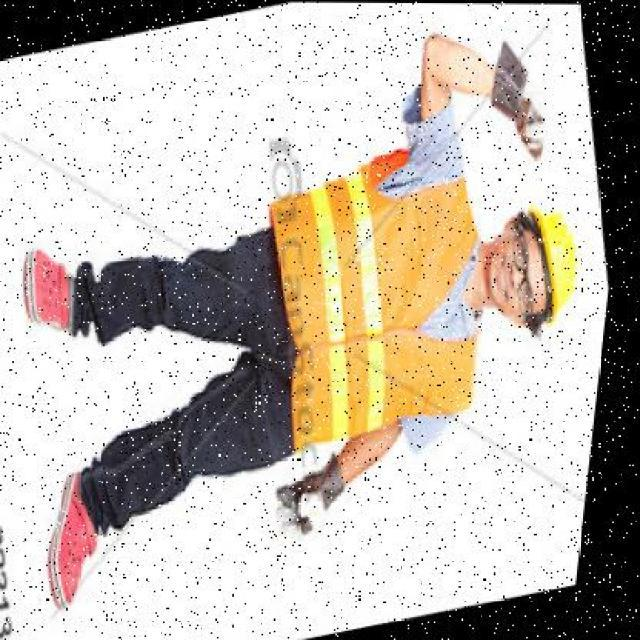helmet: (509, 175, 600, 335)
vest: (239, 122, 548, 473)
